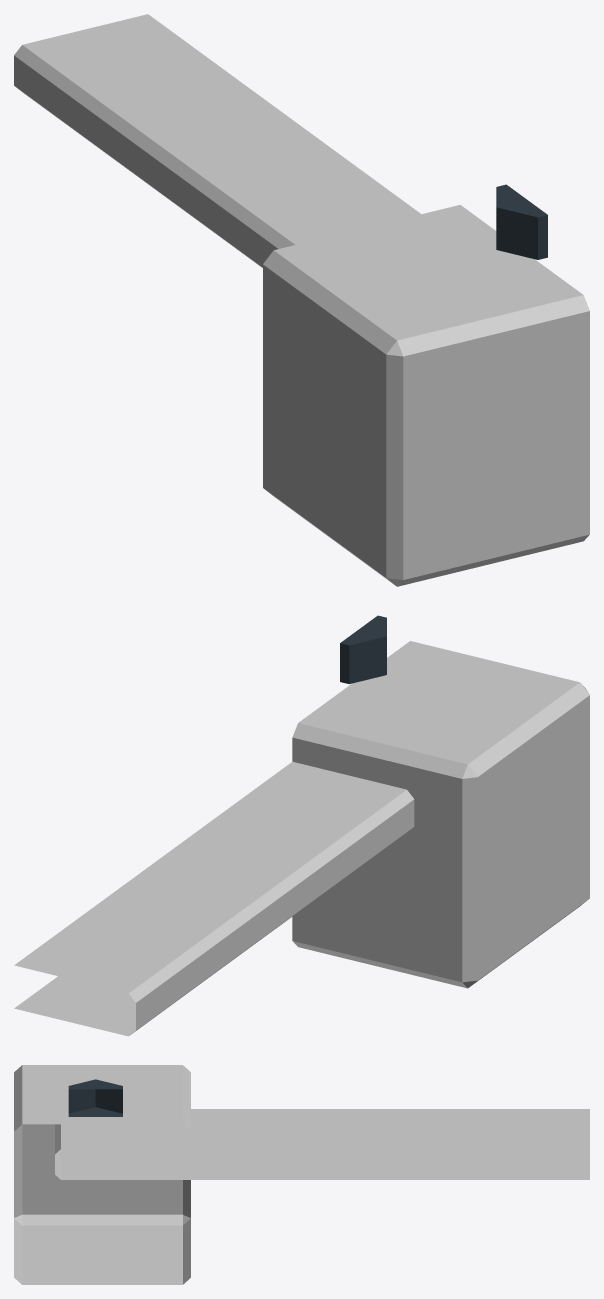
The model's file is cell_18.obj.
The picture shows the model from 3 angles, top to bottom: view 1: azimuth 30°, elevation 25°; view 2: azimuth 150°, elevation 25°; view 3: azimuth 270°, elevation 25°; orthographic projection. The views are drawn at different scales.
Size of the model in its own units: 0.24 by 0.3487 by 0.93.
